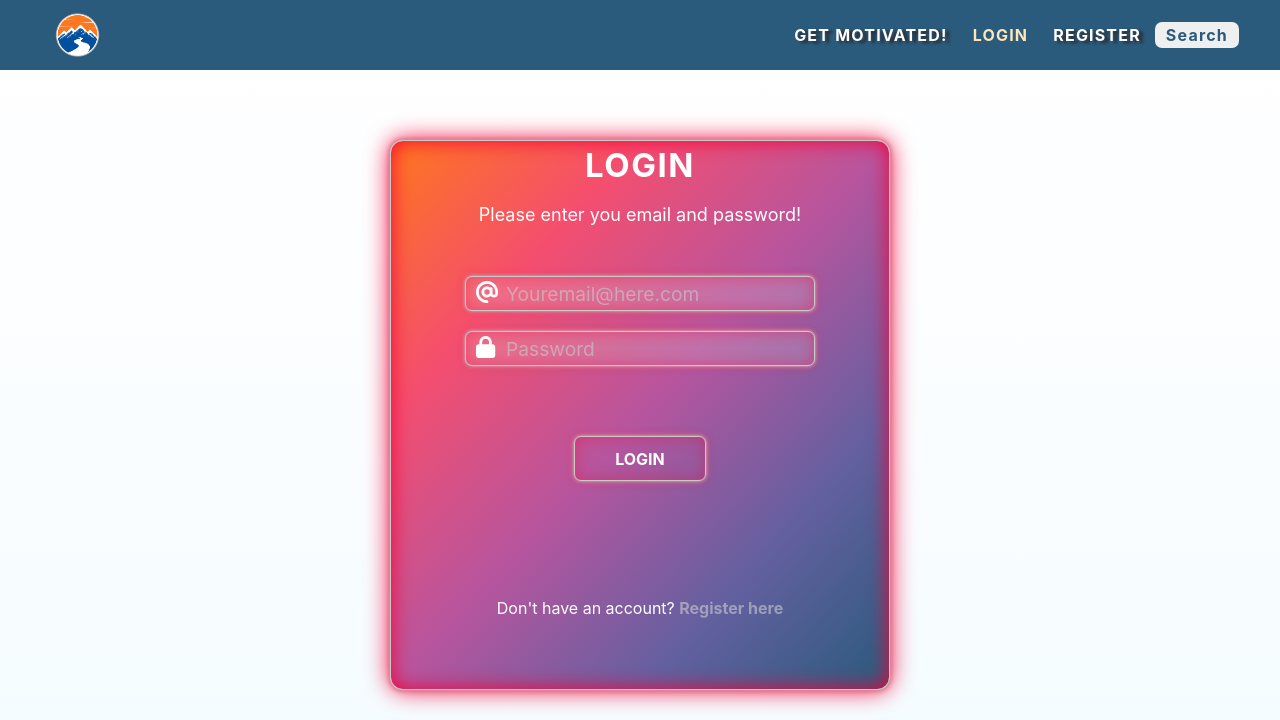
Test: Login Page Unhappy Paths › Show input validation errors on blur › email validation error with invalid email #1
This screenshot has width=1280, height=720.
Type "notanemail" into the field with placeholder "Youremail@here.com" at {"x": 640, "y": 294}, box [465,276,815,311]
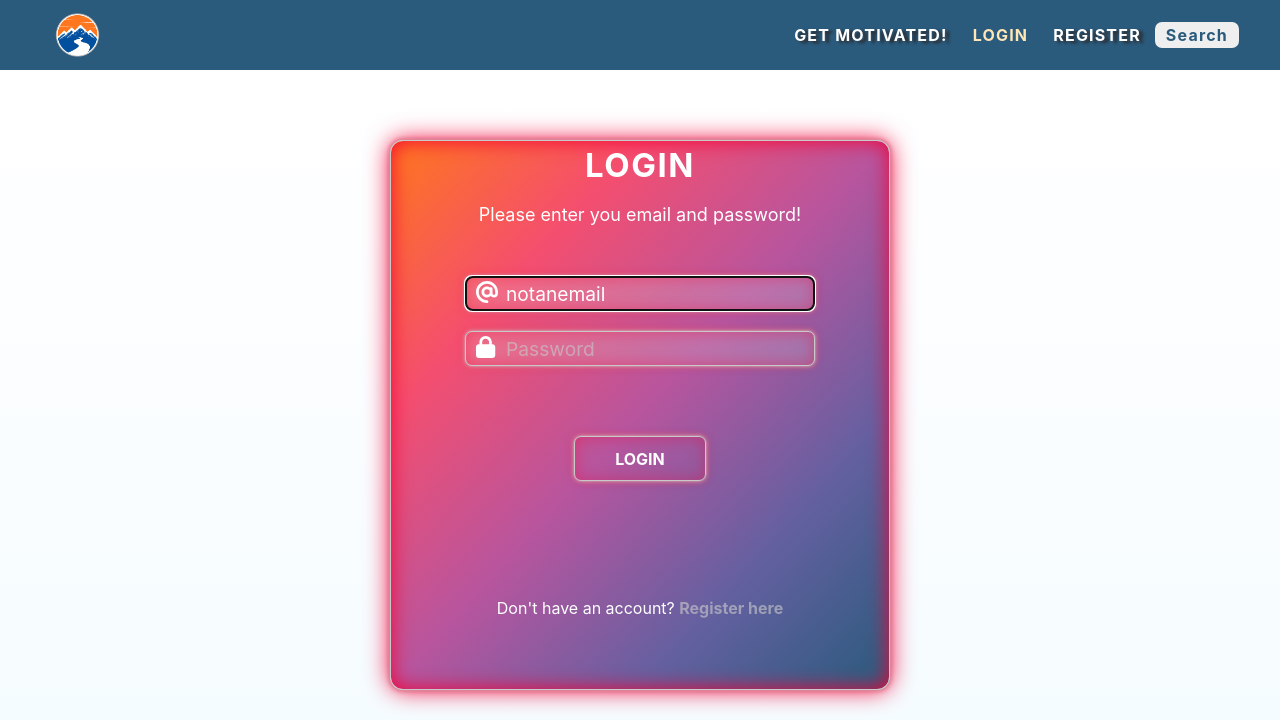
Leave the field, box [465,276,815,311]
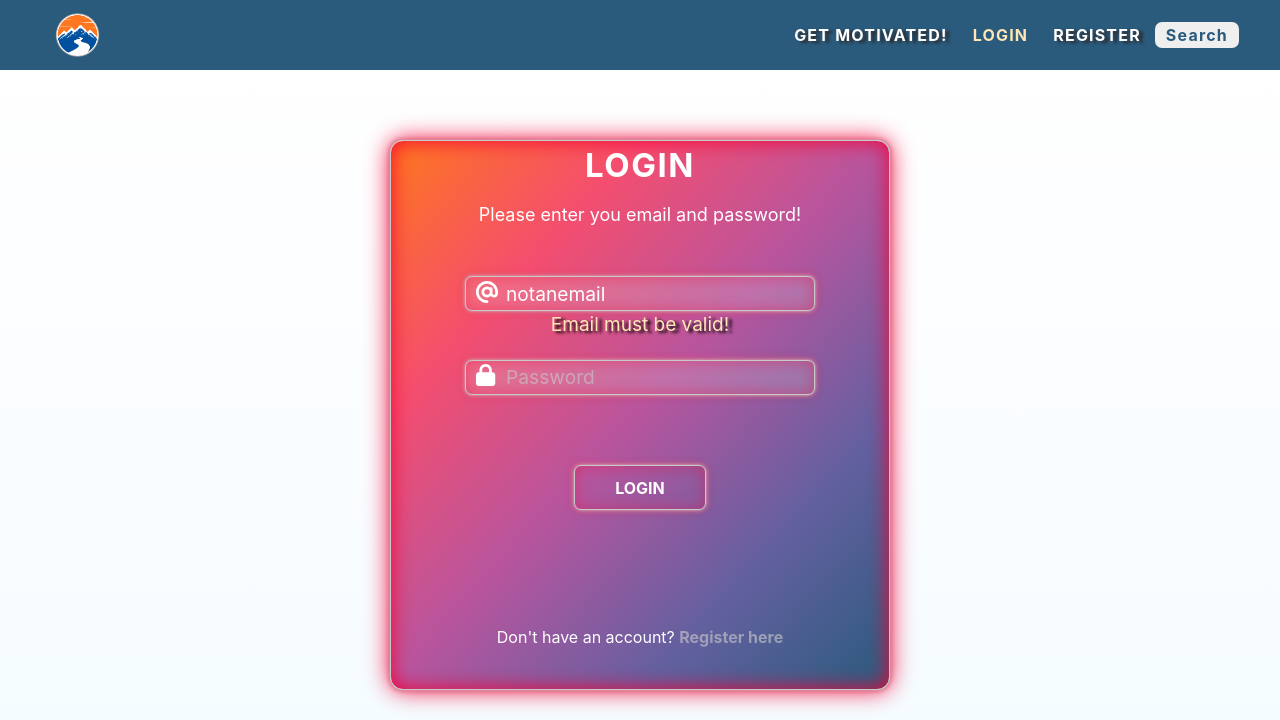
Expected: the text "Email must be valid!" is shown, [551,313,729,336]
